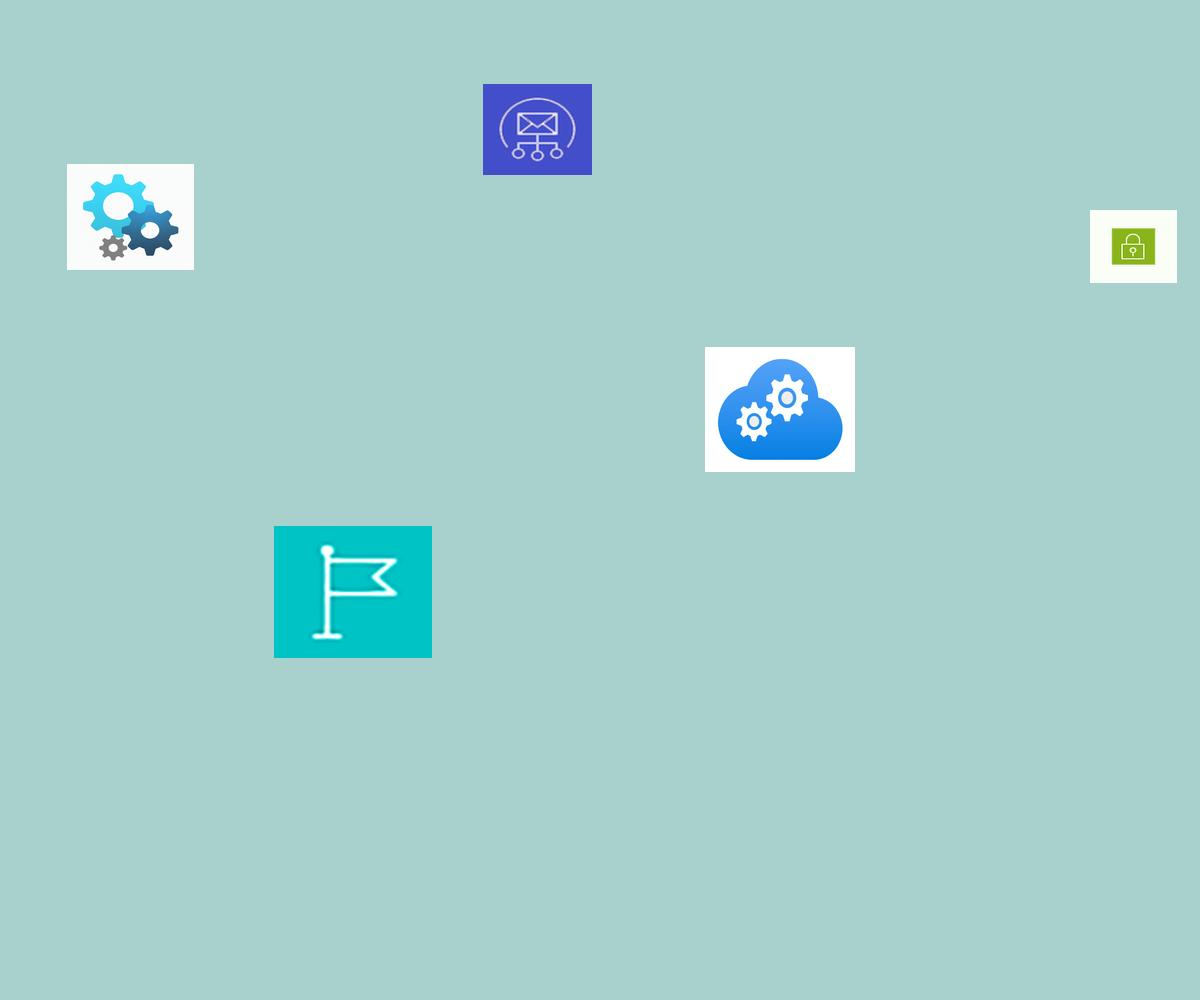AWS-Public-subnet: (1090, 210, 1177, 283)
AWS-Region: (274, 526, 432, 658)
AWS-Simple-Email-Service: (483, 84, 592, 175)
Azure_api: (67, 164, 194, 270)
Azure_cloud_services: (705, 347, 855, 472)
